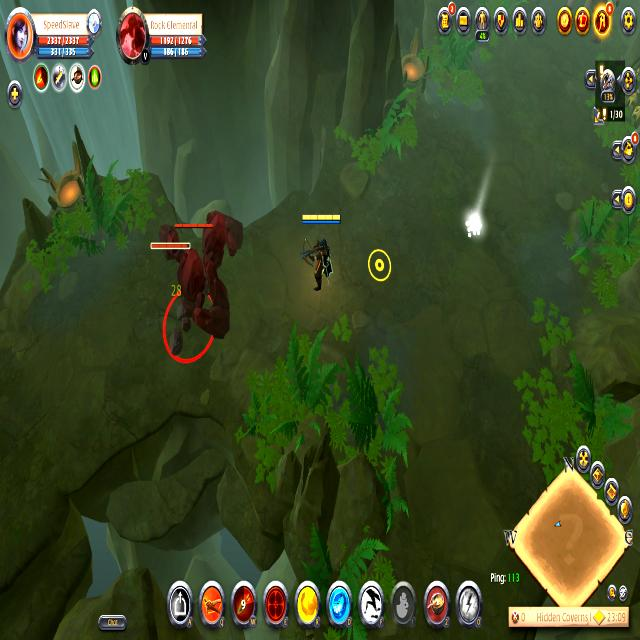ore: (144, 218, 225, 366), (180, 190, 243, 340)
red: (299, 207, 343, 313)
stone: (462, 212, 487, 250)
